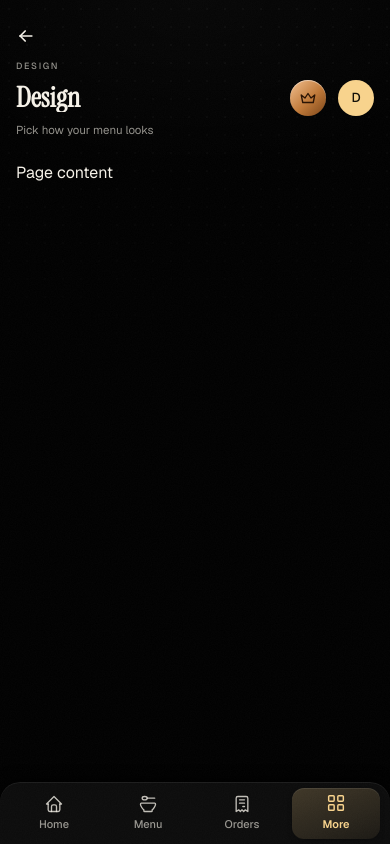
Test: AuthenticatedLayout › on a phone › shows the way back to More on a section opened from it, and none on a tab
This screenshot has width=390, height=844.
Click the button named "Back" at coordinates (26, 36), box [6,16,46,56]
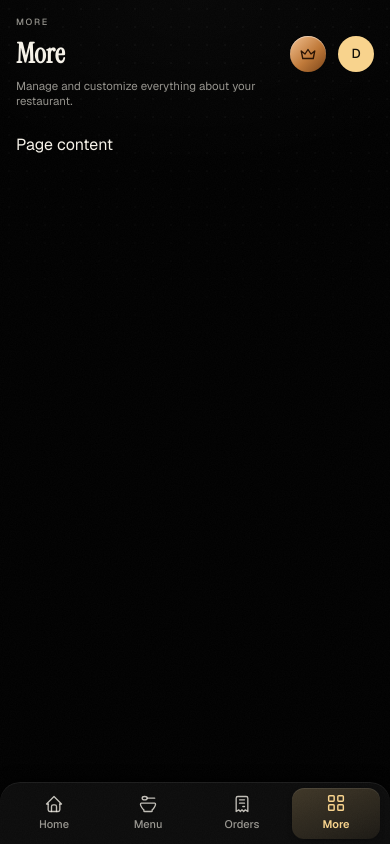
Result: the button "Back" is gone
